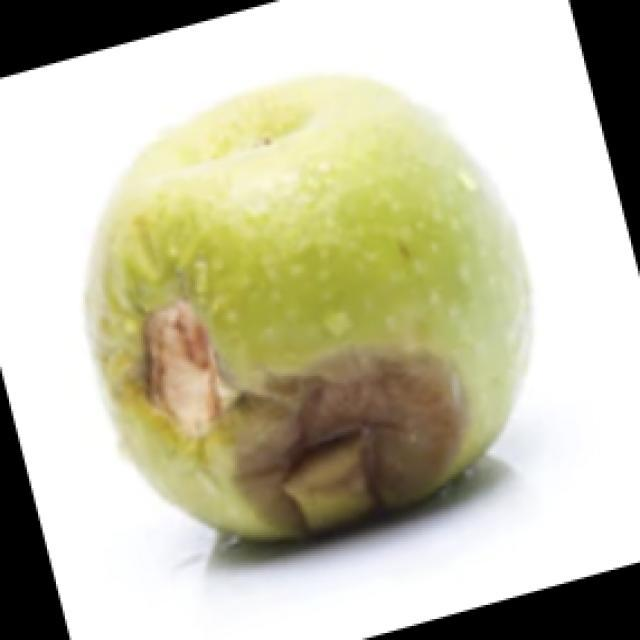Rotten: (95, 86, 520, 522)
